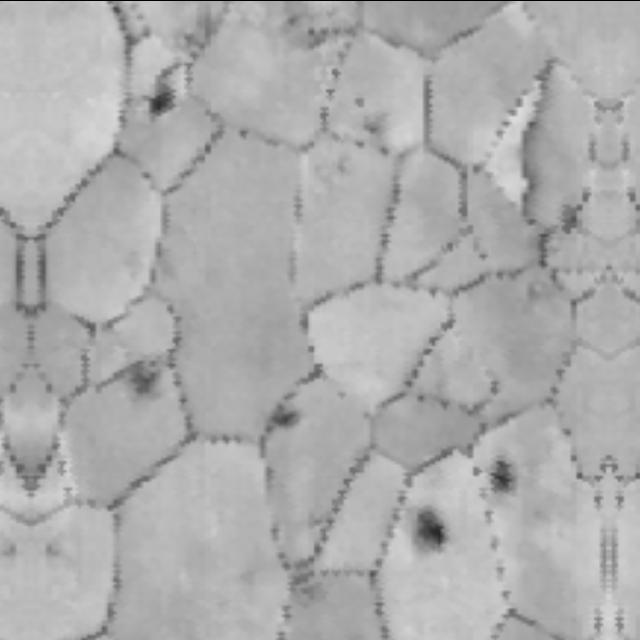good_void: (460, 446, 529, 510), (130, 63, 188, 130), (113, 354, 159, 402), (410, 511, 452, 549), (35, 536, 69, 569), (266, 407, 297, 438), (554, 200, 578, 235), (0, 536, 23, 570), (358, 115, 383, 140), (350, 92, 368, 110), (373, 138, 393, 154), (349, 134, 365, 152)
